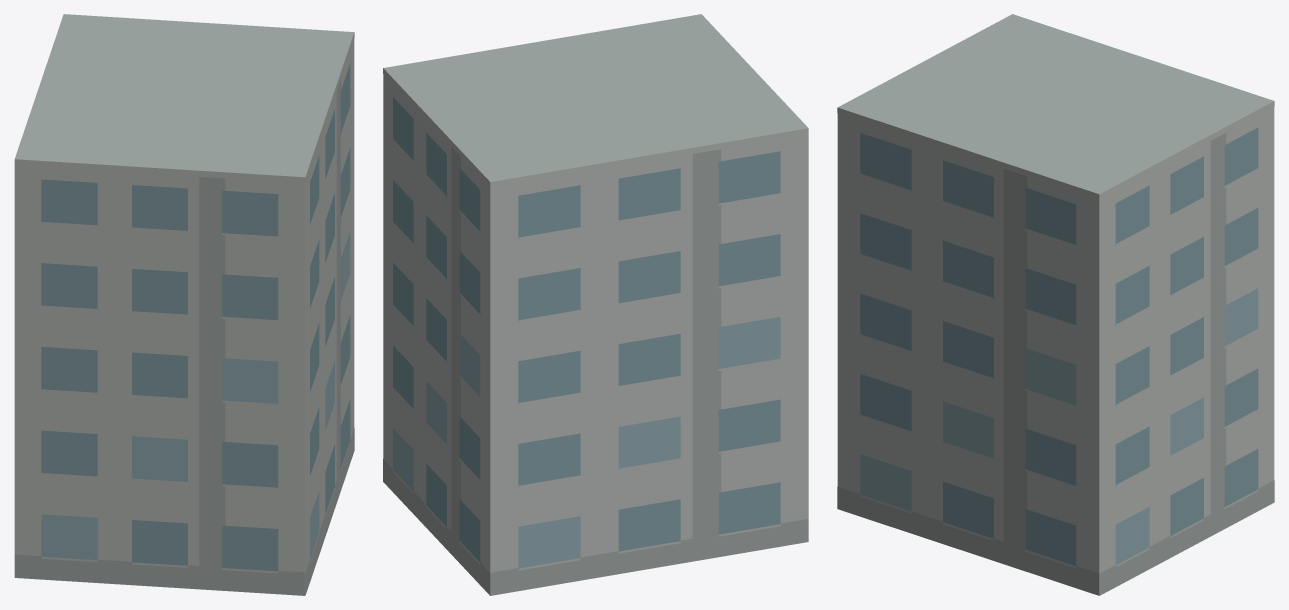
Rendered from survey-upis-32884768.glb.
3 renders of one model, left to right at view 1: azimuth 30°, elevation 25°; view 2: azimuth 150°, elevation 25°; view 3: azimuth 270°, elevation 25°, orthographic. The views are drawn at different scales.
Visible parts, largest first — view 1: survey-upis-32884768.tmp; view 2: survey-upis-32884768.tmp; view 3: survey-upis-32884768.tmp.
Boxes of the visible parts, left/top/right/bottom form: survey-upis-32884768.tmp: left=14, top=14, right=354, bottom=595; survey-upis-32884768.tmp: left=383, top=14, right=808, bottom=595; survey-upis-32884768.tmp: left=837, top=14, right=1274, bottom=595.
Size of the model in its own units: 15.89 by 16.5 by 16.28.
